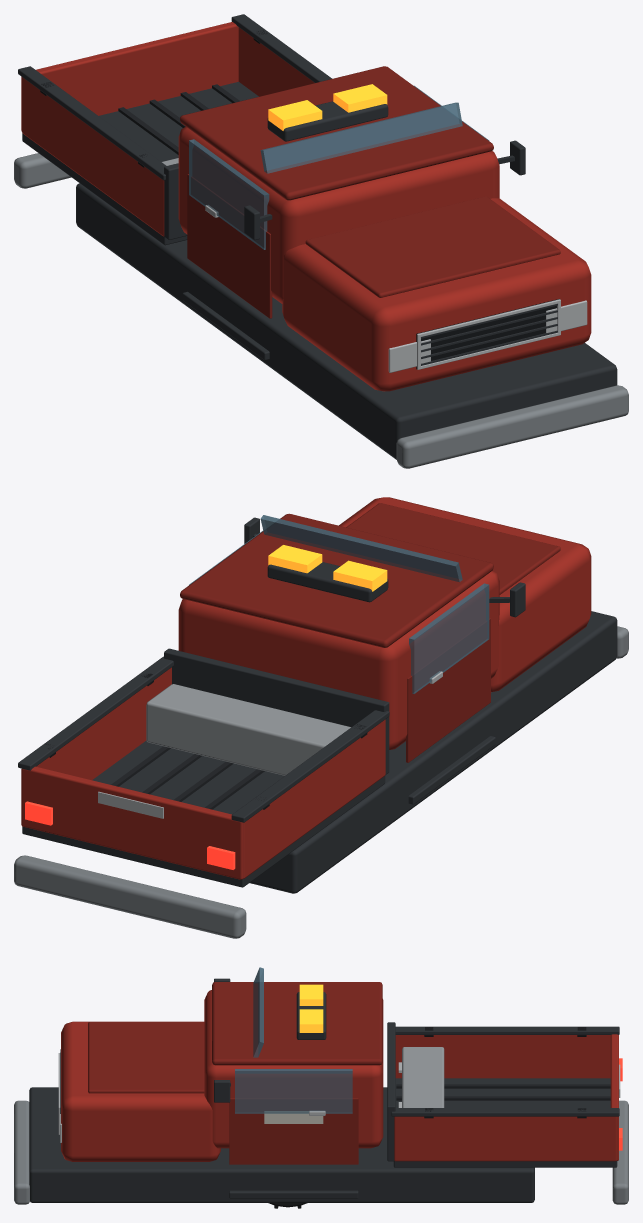
Rendered from vh_truck.glb.
3 views of the same model, one above another, from view 1: azimuth 30°, elevation 25°; view 2: azimuth 150°, elevation 25°; view 3: azimuth 270°, elevation 25° (orthographic). The views are drawn at different scales.
Visible parts, largest first — view 1: block.001, block.002, block.005, block.004, block.003, block.046, block.038, block.029, block.008, block.006, block.031, block.007 (+13 smaller); view 2: block.004, block.005, block.001, block.046, block.049, block.002, block.031, block.038, block.030, block.048, block.008, block.003 (+10 smaller); view 3: block.001, block.005, block.002, block.042, block.003, block.038, block.004, block.013, block.031, block.012, block.049, block.043 (+14 smaller).
Boxes of the visible parts, left/top/right/bottom form: block.001: left=76, top=183, right=617, bottom=459; block.002: left=282, top=198, right=591, bottom=391; block.005: left=180, top=66, right=493, bottom=200; block.004: left=178, top=126, right=499, bottom=303; block.003: left=305, top=196, right=560, bottom=297; block.046: left=21, top=22, right=238, bottom=131; block.038: left=22, top=77, right=164, bottom=236; block.029: left=396, top=385, right=628, bottom=468; block.008: left=187, top=174, right=272, bottom=318; block.006: left=260, top=102, right=462, bottom=173; block.031: left=22, top=81, right=258, bottom=245; block.007: left=189, top=139, right=269, bottom=249; block.004: left=178, top=570, right=499, bottom=749; block.005: left=180, top=513, right=493, bottom=647; block.001: left=250, top=611, right=617, bottom=893; block.046: left=21, top=766, right=243, bottom=879; block.049: left=146, top=684, right=350, bottom=775; block.002: left=339, top=497, right=591, bottom=692; block.031: left=22, top=740, right=385, bottom=887; block.038: left=243, top=719, right=385, bottom=878; block.030: left=14, top=855, right=246, bottom=938; block.048: left=164, top=648, right=389, bottom=774; block.008: left=406, top=618, right=490, bottom=762; block.003: left=346, top=503, right=560, bottom=594; block.001: left=29, top=1087, right=534, bottom=1202; block.005: left=212, top=982, right=382, bottom=1065; block.002: left=61, top=1021, right=220, bottom=1161; block.042: left=394, top=1116, right=616, bottom=1161; block.003: left=88, top=1021, right=204, bottom=1093; block.038: left=395, top=1035, right=610, bottom=1078; block.004: left=204, top=990, right=383, bottom=1148; block.013: left=229, top=1098, right=358, bottom=1164; block.031: left=393, top=1078, right=617, bottom=1167; block.012: left=235, top=1069, right=352, bottom=1113; block.049: left=402, top=1047, right=444, bottom=1107; block.043: left=391, top=1108, right=619, bottom=1116.
Bounding box in the file's own units: 2.09 × 1.85 × 5.23.
